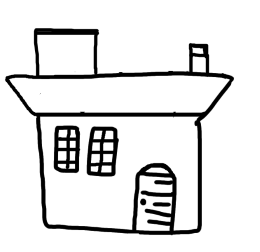chimney: (17, 15, 110, 84), (176, 36, 215, 83)
closed_window: (84, 123, 122, 185), (50, 120, 83, 179)
door: (129, 156, 182, 237)
roof: (3, 68, 245, 126)
wall: (21, 112, 220, 244)
